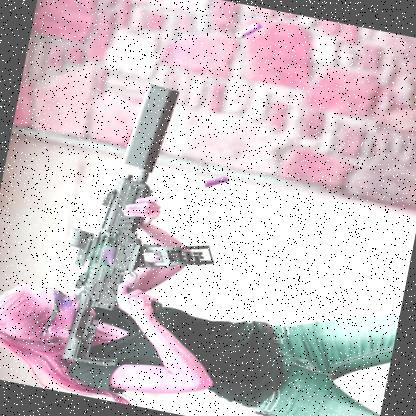rifle: (32, 64, 263, 389)
